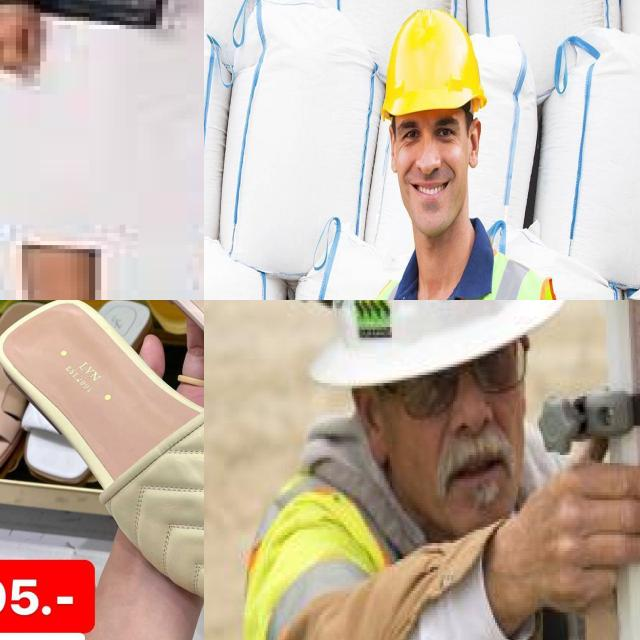No_Ear-Protection: (469, 116, 483, 174), (388, 120, 399, 177)
No_Glasses: (398, 111, 464, 154)
Sandals: (0, 300, 204, 640), (72, 300, 204, 456)
face_nomask: (392, 346, 531, 524), (387, 111, 470, 229)
glasses: (394, 332, 537, 420)
hand_noglove: (548, 452, 640, 609)
head_helmet: (309, 300, 569, 369), (382, 6, 487, 118)
person: (248, 300, 592, 640), (346, 16, 581, 300)
vest: (244, 481, 552, 640)
